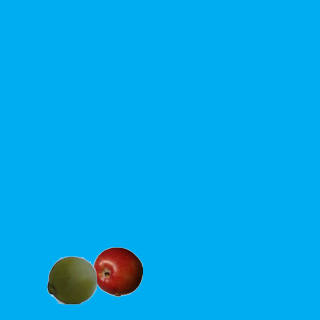Apple Braeburn: (92, 246, 142, 296)
Grape White 4: (46, 254, 96, 304)
